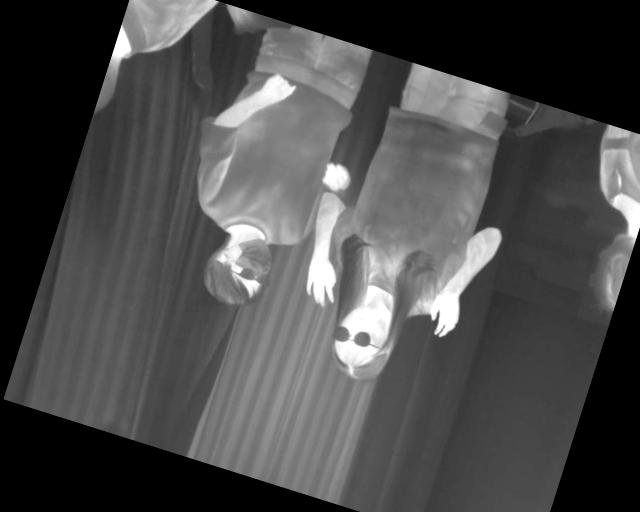face: (197, 225, 281, 314), (322, 295, 402, 386)
